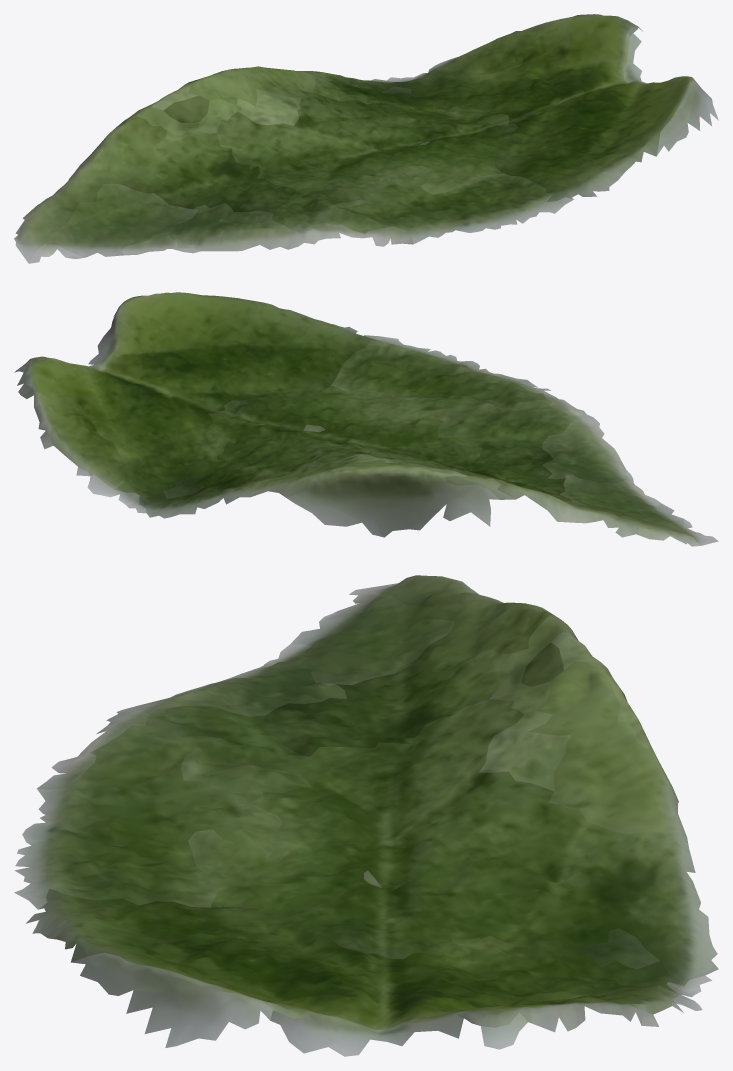
The model's file is leaf-04.glb.
3 renders of one model, top to bottom at view 1: azimuth 30°, elevation 25°; view 2: azimuth 150°, elevation 25°; view 3: azimuth 270°, elevation 25°, orthographic. The views are drawn at different scales.
Parts seen in each view (by area): view 1: Mesh; view 2: Mesh; view 3: Mesh.
Boxes of the visible parts, x1,y1,x2,y2 form: Mesh: [14, 14, 718, 263]; Mesh: [14, 292, 718, 546]; Mesh: [14, 575, 718, 1056].
Bounding box in the file's own units: 0.1089 × 0.0123 × 0.0614.
Materials: 1 (1 with a texture image).
